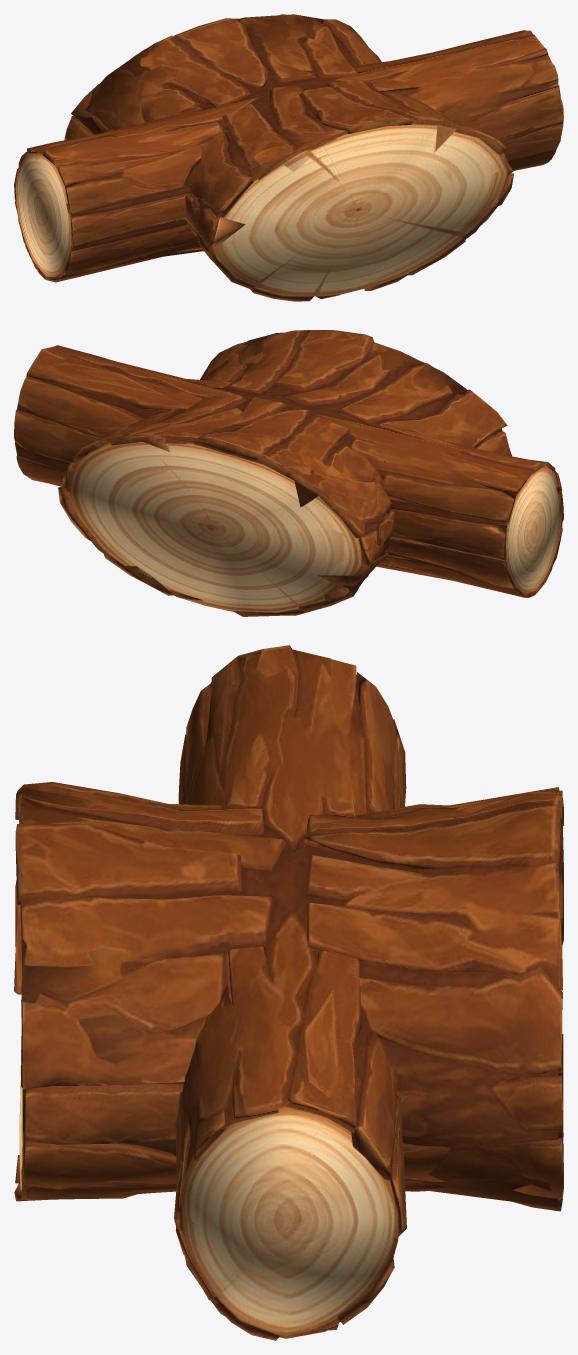
Rendered from aserradero_tronco.glb.
3 views of the same model, one above another, from view 1: azimuth 30°, elevation 25°; view 2: azimuth 150°, elevation 25°; view 3: azimuth 270°, elevation 25° (orthographic). The views are drawn at different scales.
Visible parts, largest first — view 1: tronco; view 2: tronco; view 3: tronco.
Boxes of the visible parts, x1,y1,x2,y2 form: tronco: (14, 14, 563, 301); tronco: (14, 330, 563, 616); tronco: (14, 645, 563, 1340).
Size of the model in its own units: 0.66 by 0.2195 by 0.34.
1 material, 1 textured.
